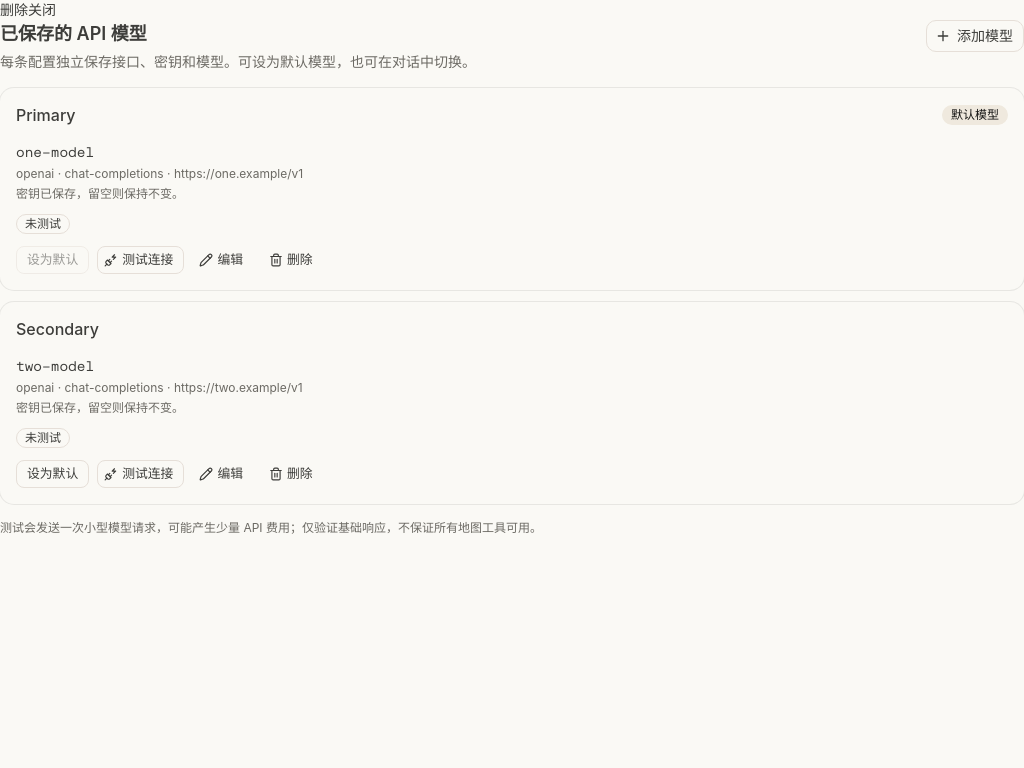
Test case: API profile settings › labels the delete-dialog close action in zh-CN
This screenshot has width=1024, height=768.
Click the button "删除" below "https://two.example/v1" at (293, 474), box left=262, top=460, right=324, bottom=488
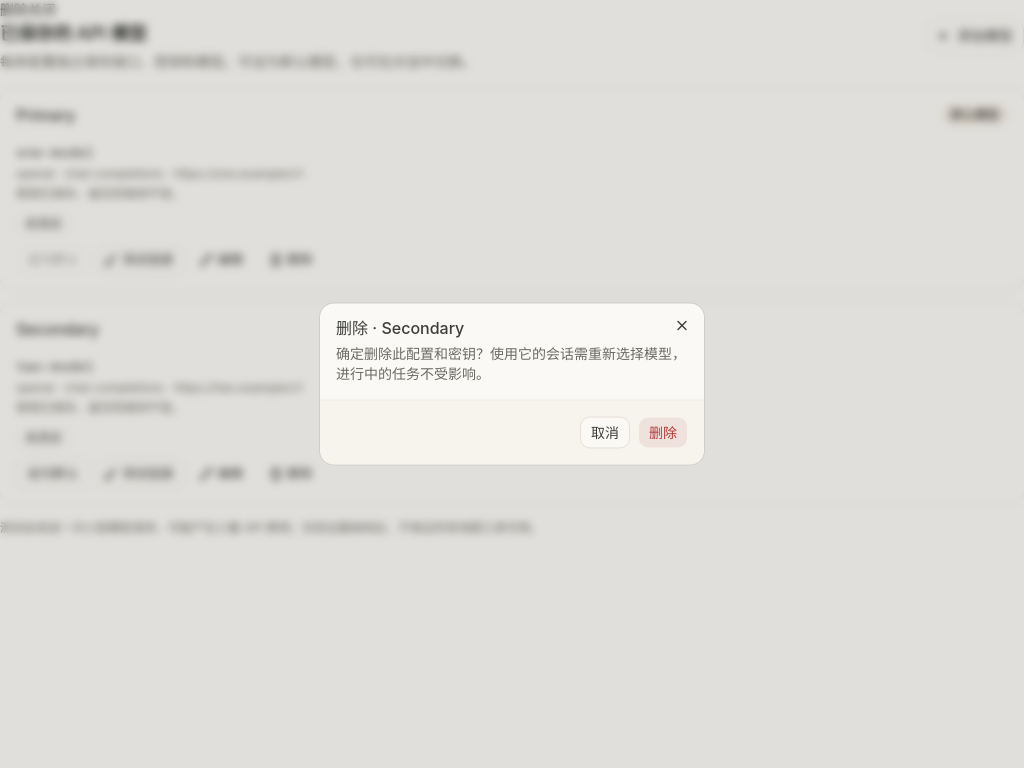
Click the button named "关闭" at (682, 326), box left=668, top=312, right=696, bottom=340
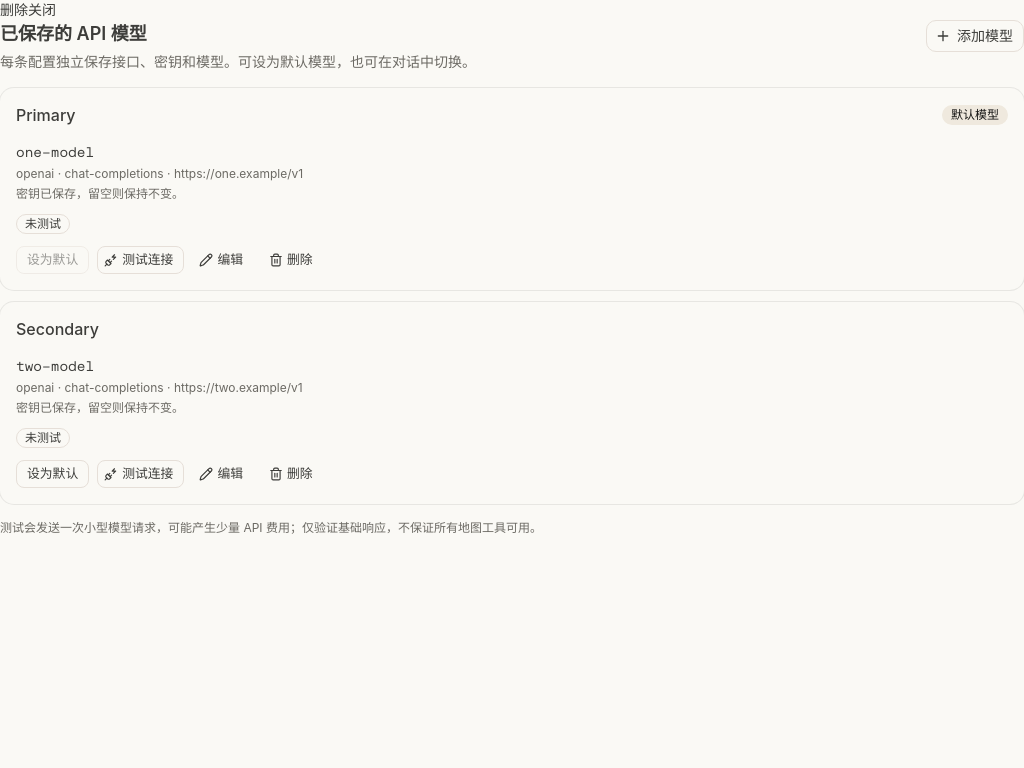
Expected: the dialog is gone
